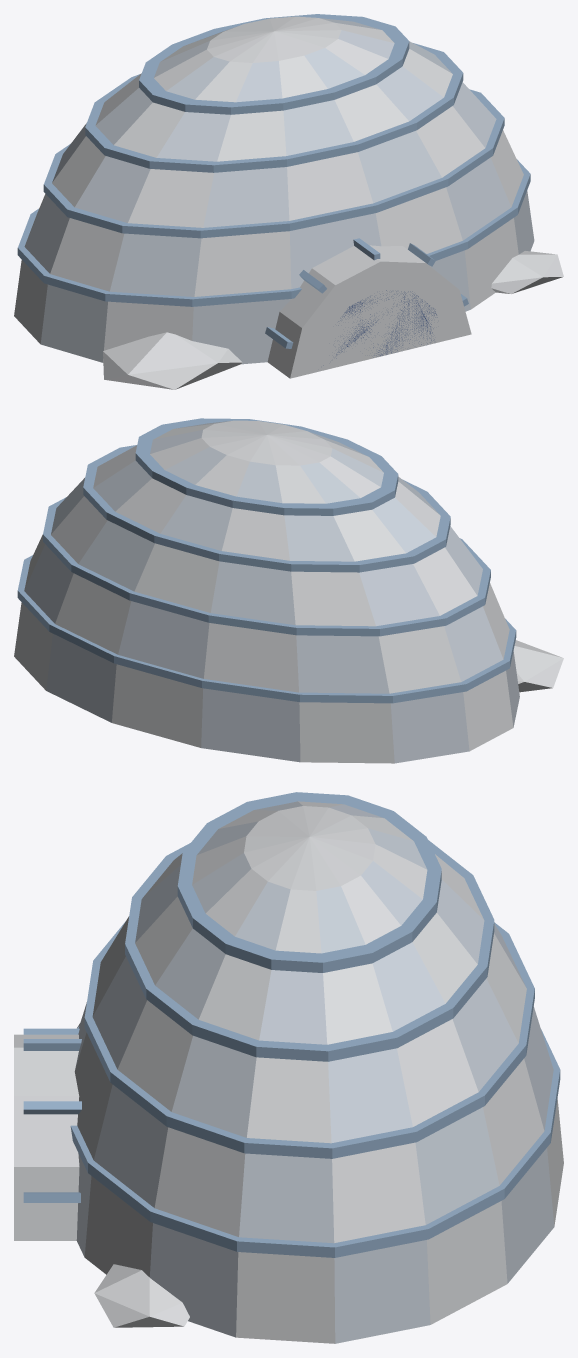
The model's file is habitat_prop_pengoo.fbx.
3 renders of one model, top to bottom at view 1: azimuth 30°, elevation 25°; view 2: azimuth 150°, elevation 25°; view 3: azimuth 270°, elevation 25°, orthographic. The views are drawn at different scales.
Parts seen in each view (by area): view 1: habitat_prop_pengoo; view 2: habitat_prop_pengoo; view 3: habitat_prop_pengoo.
Part boxes in pixels (x1=…): habitat_prop_pengoo: x1=14, y1=14, x2=563, y2=389; habitat_prop_pengoo: x1=14, y1=418, x2=563, y2=763; habitat_prop_pengoo: x1=14, y1=792, x2=563, y2=1343.
Bounding box in the file's own units: 1.6 × 0.78 × 1.13.
